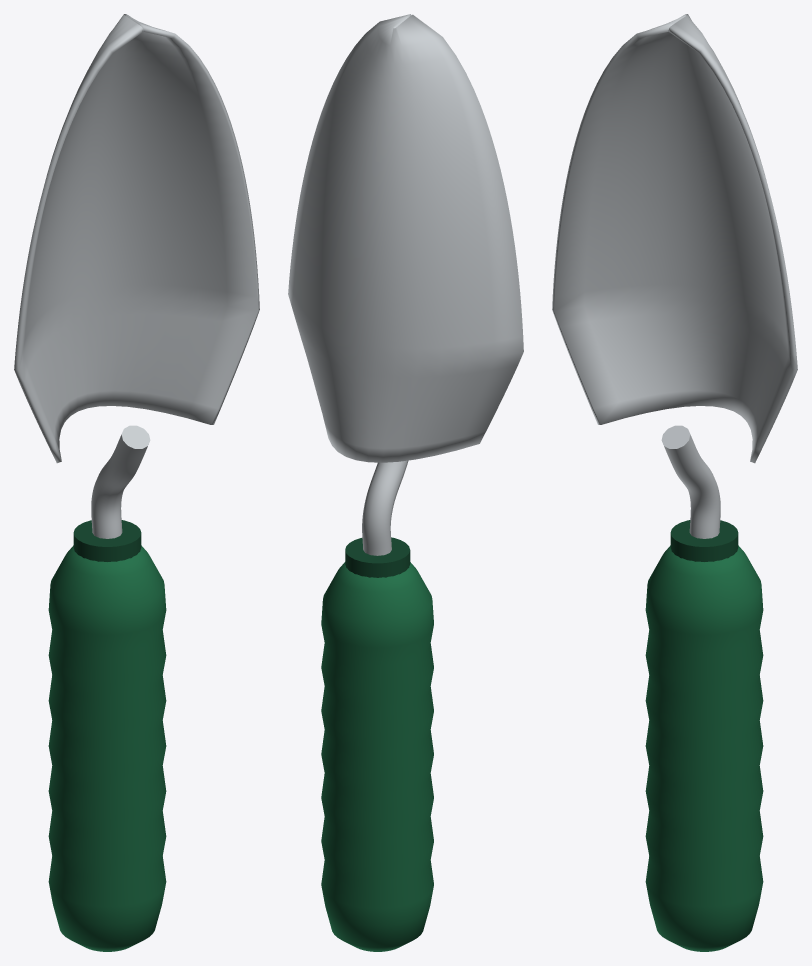
The model's file is item-7.glb.
3 views of the same model, side by side, from view 1: azimuth 30°, elevation 25°; view 2: azimuth 150°, elevation 25°; view 3: azimuth 330°, elevation 25° (orthographic). The views are drawn at different scales.
Visible parts, largest first — view 1: blade, handle, shank, cap; view 2: blade, handle, shank, cap; view 3: blade, handle, shank, cap.
Part boxes in pixels (box(x1,y1,x2,y2)): blade: box(14, 14, 259, 463); handle: box(48, 545, 166, 951); shank: box(91, 425, 150, 538); cap: box(73, 520, 141, 561); blade: box(288, 14, 523, 462); handle: box(321, 562, 433, 951); shank: box(362, 460, 408, 555); cap: box(345, 537, 410, 577); blade: box(552, 14, 797, 463); handle: box(645, 545, 763, 951); shank: box(661, 425, 720, 538); cap: box(670, 520, 738, 561).
Size of the model in its own units: 0.0796 by 0.2907 by 0.0366.
